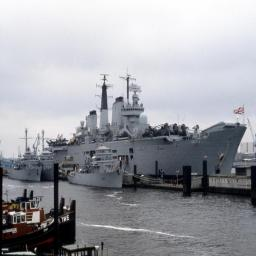Portanaves: (32, 72, 251, 183)
